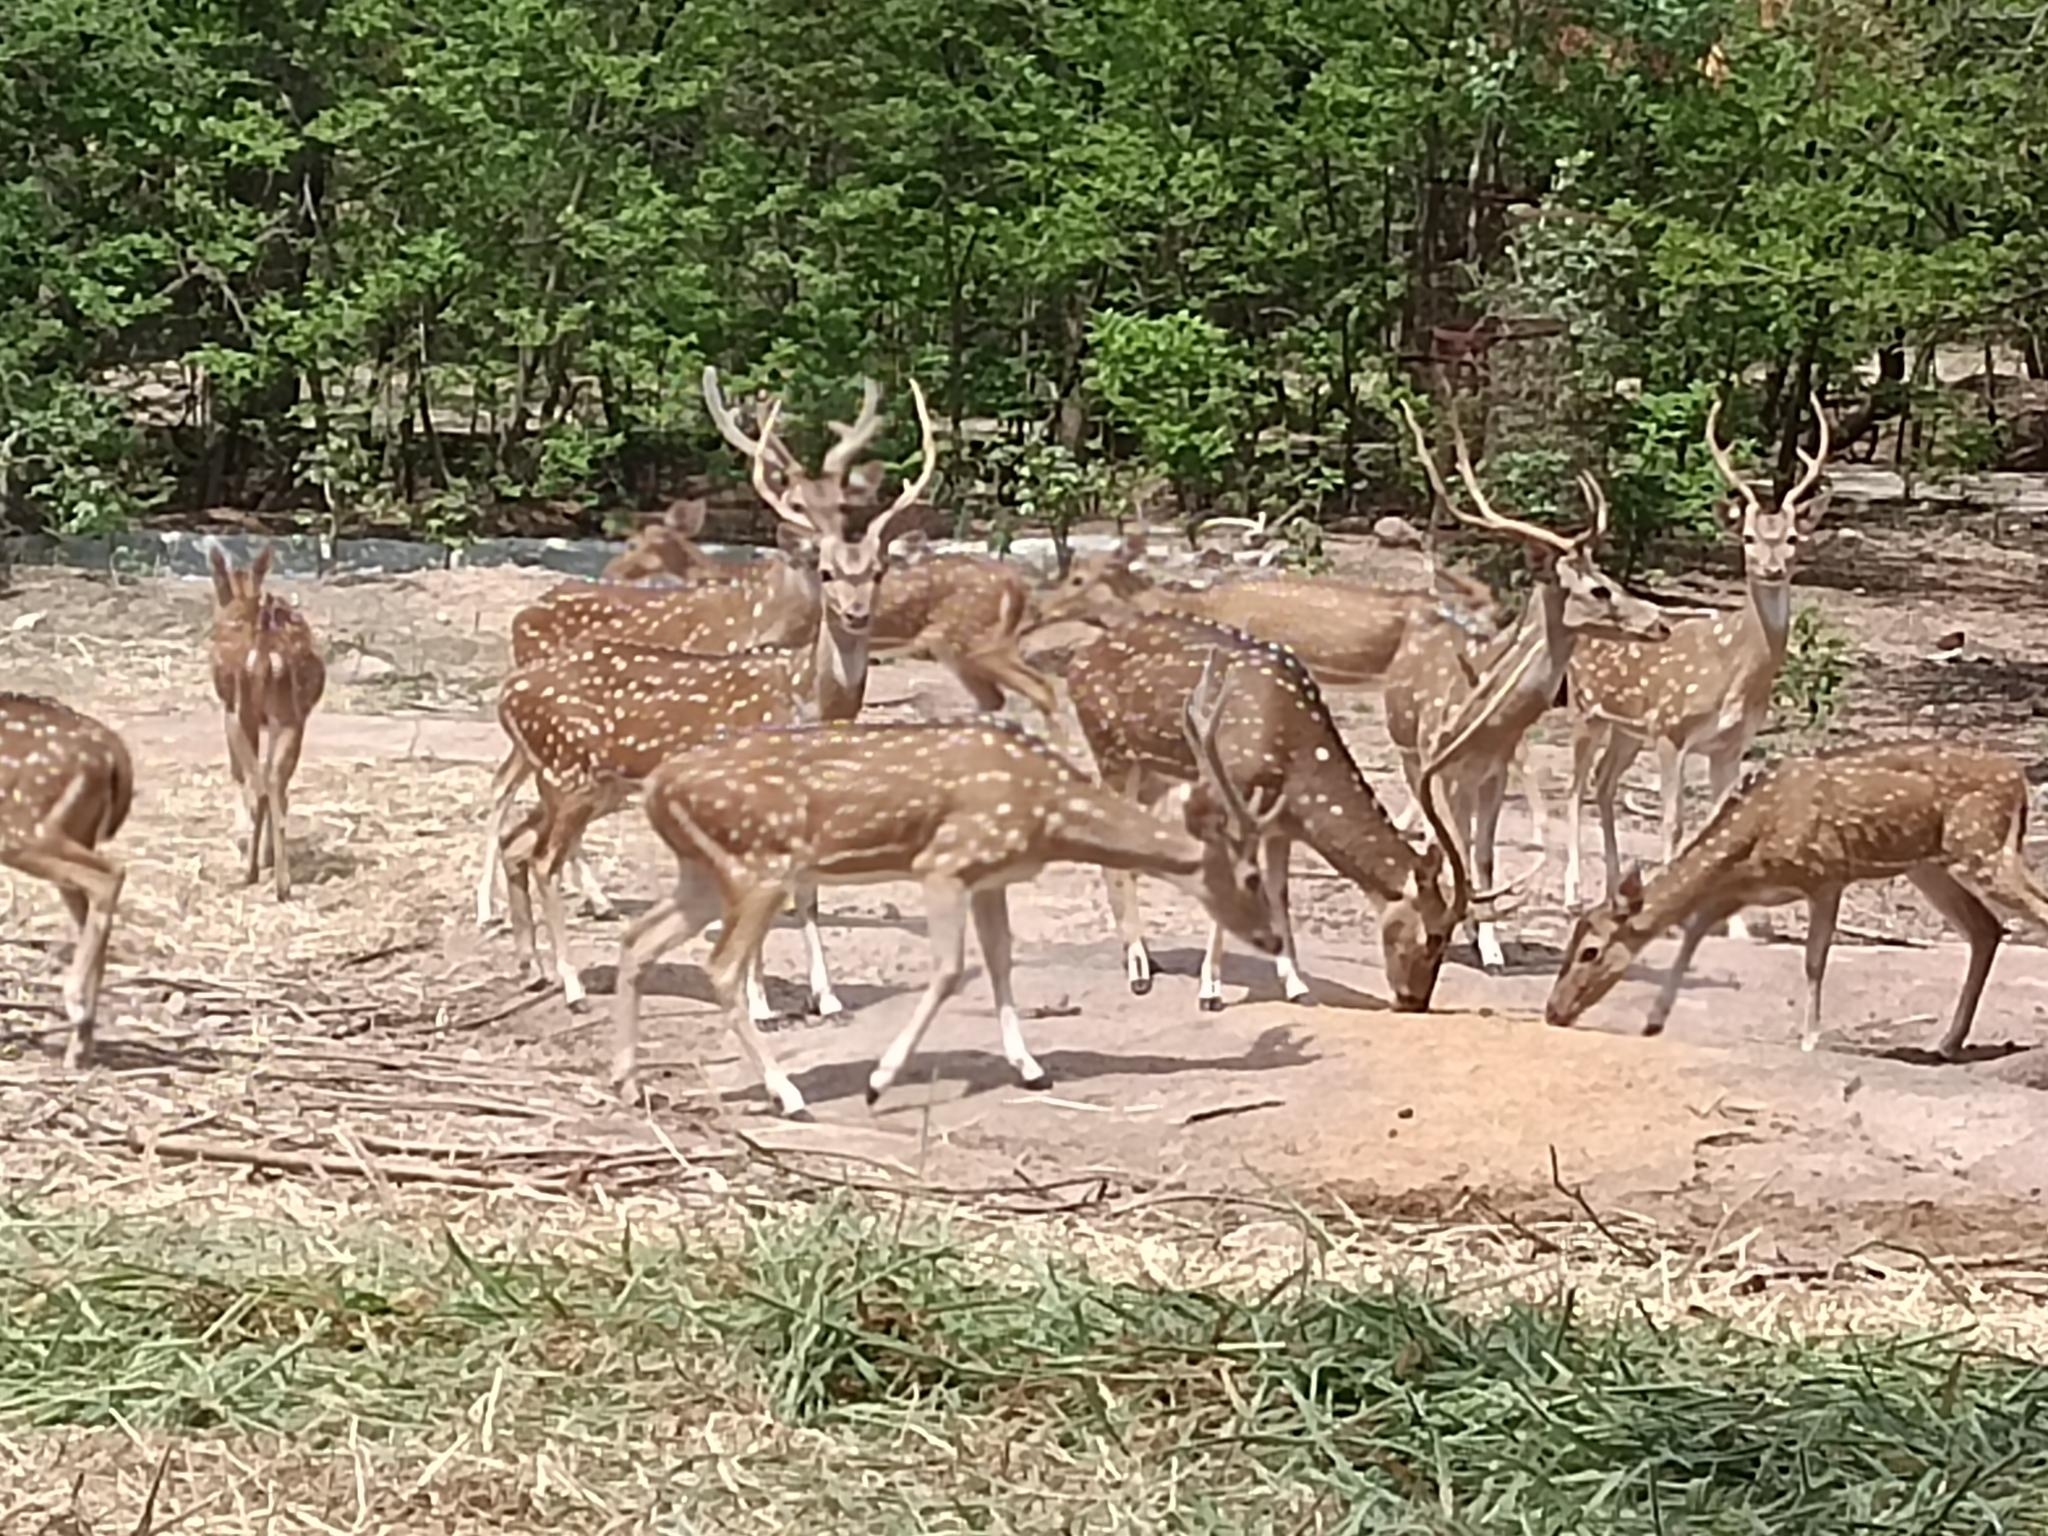Deer: (611, 662, 1285, 1117), (497, 382, 937, 1010), (1384, 394, 1671, 971), (1064, 615, 1477, 1012), (1543, 741, 2046, 1058), (1563, 389, 1829, 912), (1034, 534, 1451, 686), (206, 542, 326, 900)
